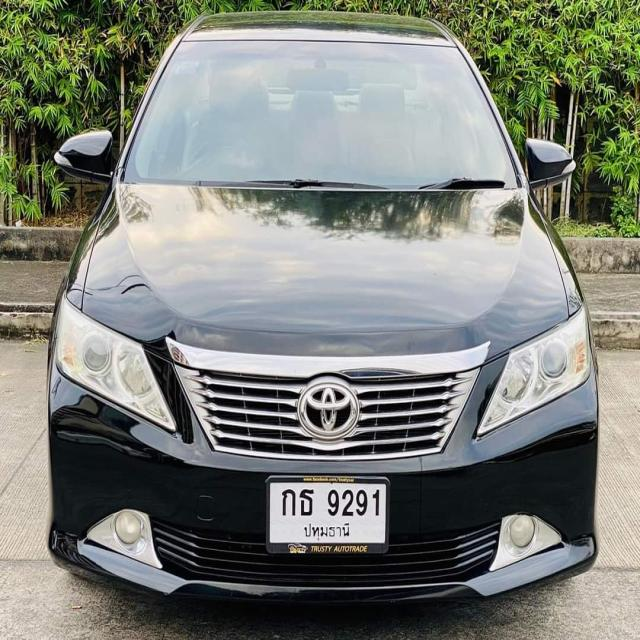license_plate: (264, 465, 391, 557)
